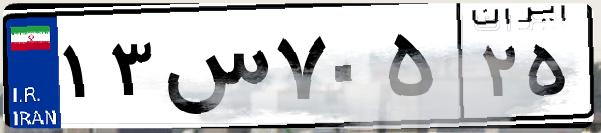0: (330, 28, 385, 110)
1: (57, 26, 110, 100)
2: (475, 38, 525, 113)
3: (110, 28, 158, 98)
5: (385, 28, 445, 110), (525, 38, 570, 115)
7: (270, 28, 330, 110)
س: (158, 20, 270, 120)
